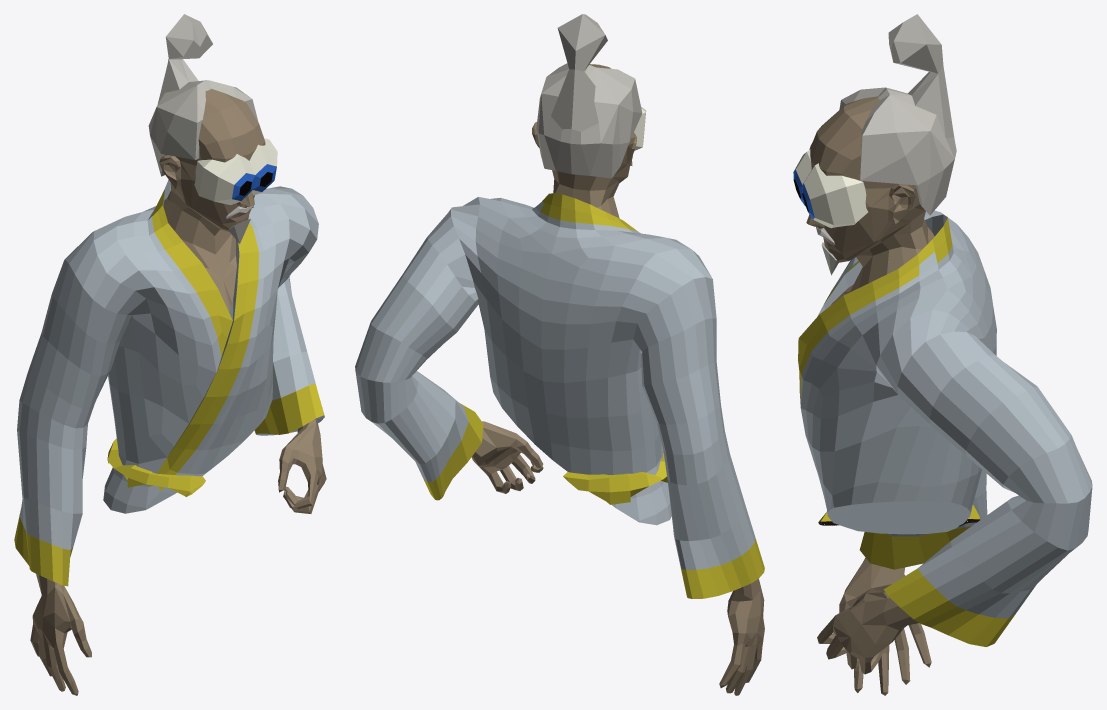
File: master_top_half.glb
The picture shows the model from 3 angles, left to right: view 1: azimuth 30°, elevation 25°; view 2: azimuth 150°, elevation 25°; view 3: azimuth 270°, elevation 25°; orthographic projection. The views are drawn at different scales.
Visible parts, largest first — view 1: master_eye_bugout.001; view 2: master_eye_bugout.001; view 3: master_eye_bugout.001.
Part boxes in pixels (x1,y1,x2,y2): master_eye_bugout.001: (14,14,326,695); master_eye_bugout.001: (355,14,764,695); master_eye_bugout.001: (793,14,1092,695).
Bounding box in the file's own units: 0.5883 × 1.12 × 0.3981.
Materials: 1 (1 with a texture image).
